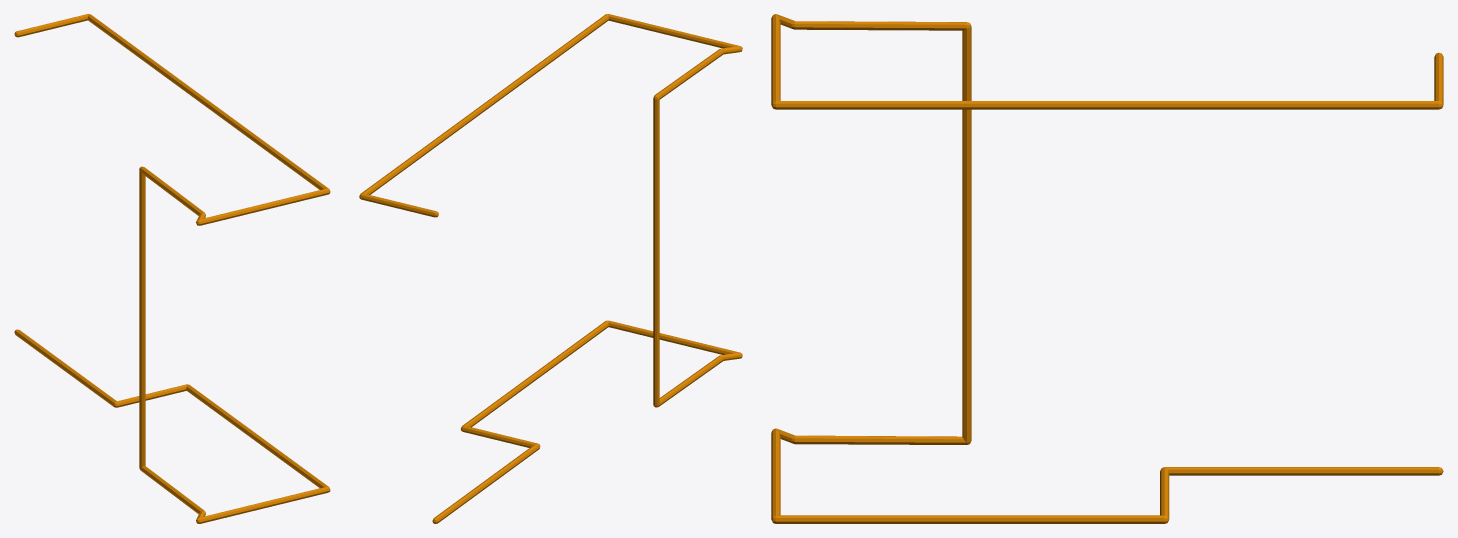
3 renders of one model, left to right at view 1: azimuth 30°, elevation 25°; view 2: azimuth 150°, elevation 25°; view 3: azimuth 270°, elevation 25°, orthographic. The views are drawn at different scales.
Size of the model in its own units: 470 by 1020 by 1470.
